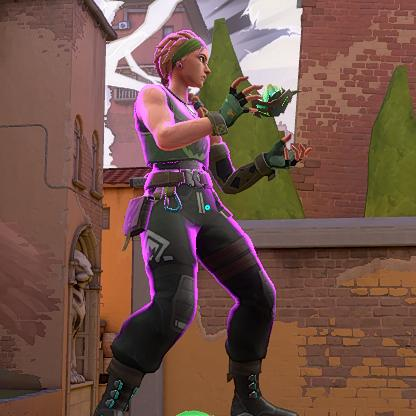enemyBody: (148, 124, 208, 190)
